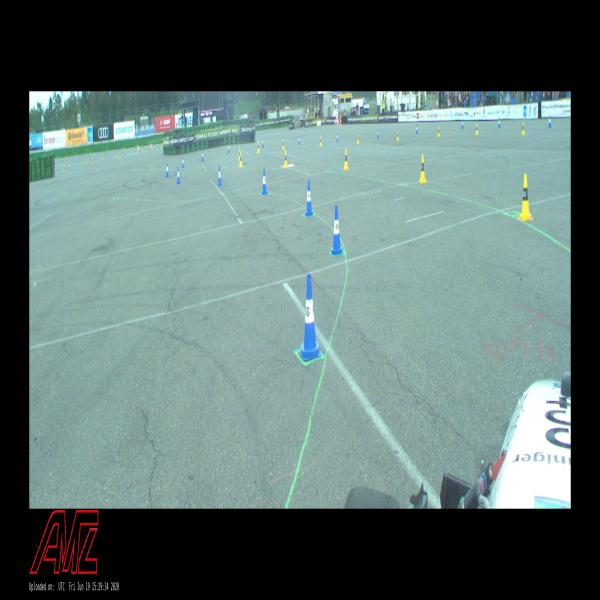blue_cone: (299, 274, 322, 362), (331, 205, 343, 256), (305, 180, 313, 216), (261, 168, 268, 194), (218, 166, 222, 186), (176, 167, 180, 184), (548, 116, 552, 127), (166, 163, 169, 177), (201, 151, 204, 161), (498, 118, 501, 128), (182, 157, 184, 168), (228, 144, 230, 154), (262, 138, 264, 148), (416, 124, 418, 134), (336, 133, 338, 142), (377, 129, 379, 138), (298, 136, 300, 144), (462, 120, 464, 128)
yellow_cone: (518, 174, 532, 221), (419, 154, 426, 183), (344, 148, 348, 170), (284, 150, 288, 168), (239, 152, 243, 167), (522, 122, 525, 135), (257, 141, 260, 153), (282, 139, 285, 150), (238, 148, 240, 161), (476, 123, 478, 135), (320, 136, 322, 146), (357, 134, 359, 144), (438, 126, 440, 136), (397, 131, 399, 140)
